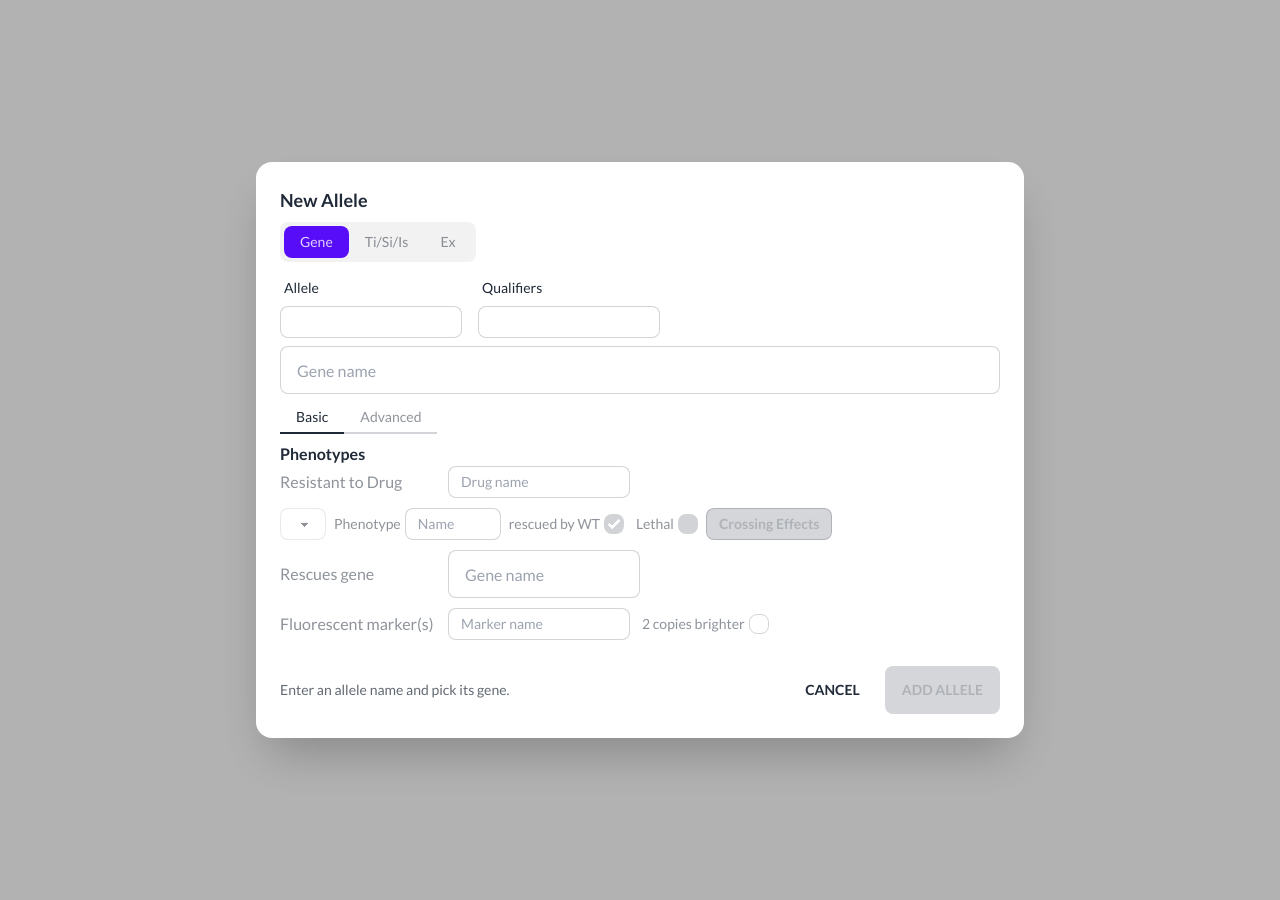
NewAlleleModal › the Advanced view says its edits are saved only when Add is pressed there
expect the text "saved only if you press Add Allele" is not shown: met
Click the button "Advanced".
click(391, 418)  # box [344, 402, 438, 434]
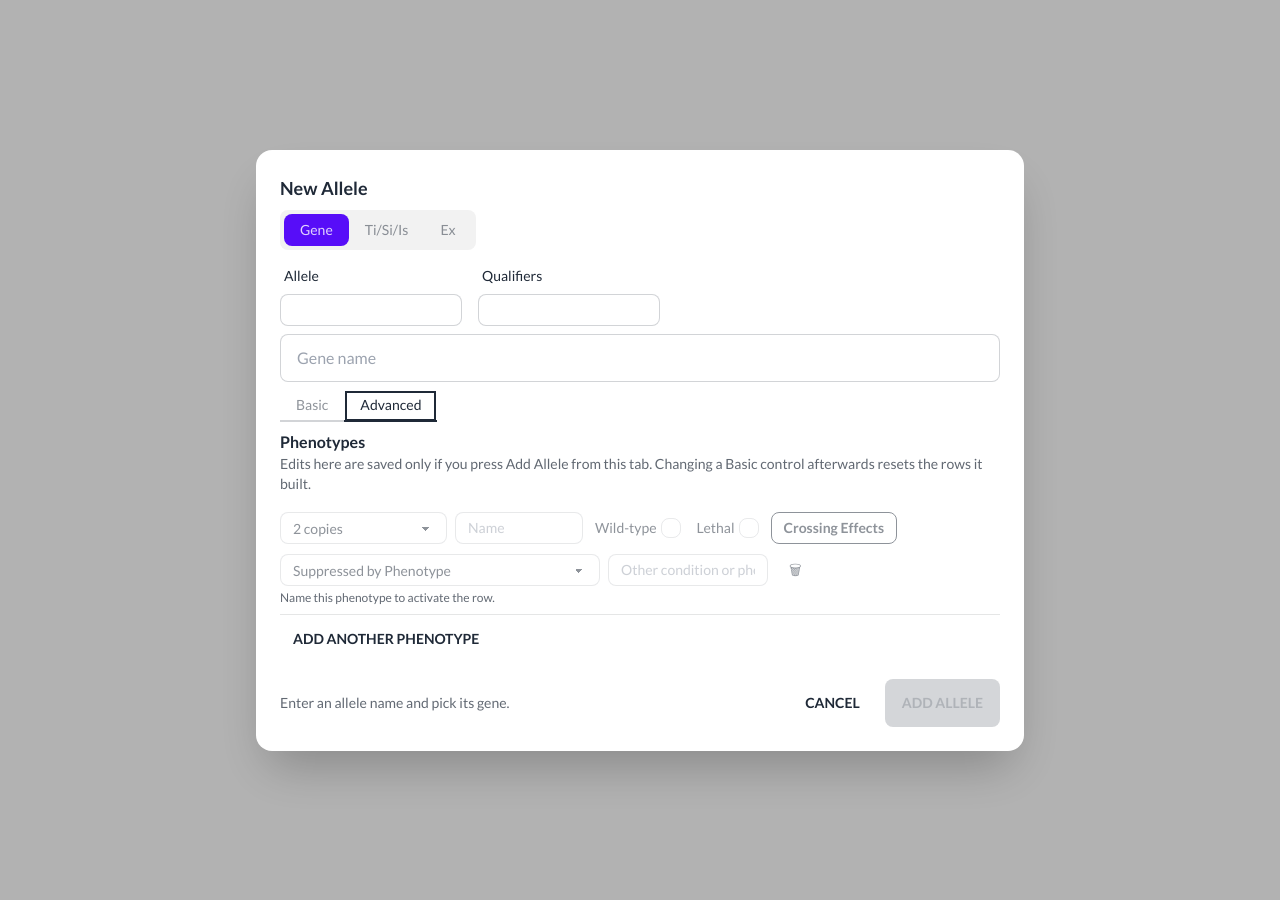
expect the text "saved only if you press Add Allele" is shown: met, box [280, 454, 983, 492]
